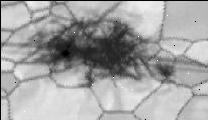good_void: (29, 14, 174, 89)
